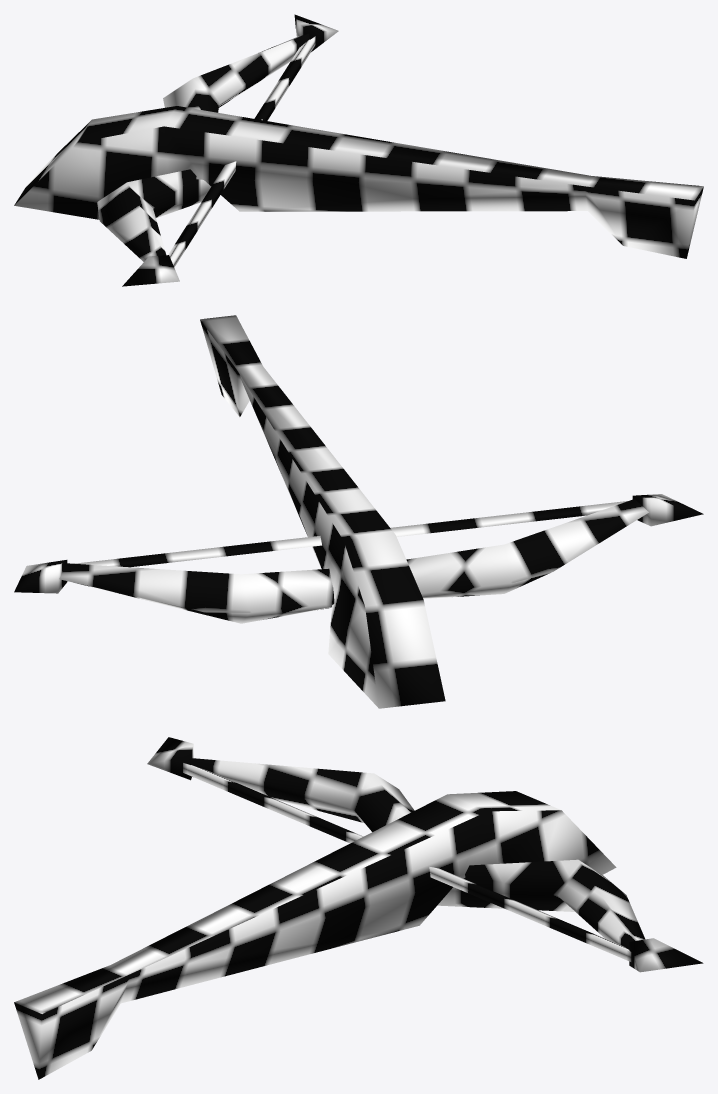
File: initwecb2.dae
3 views of the same model, one above another, from view 1: azimuth 30°, elevation 25°; view 2: azimuth 150°, elevation 25°; view 3: azimuth 270°, elevation 25° (orthographic). The views are drawn at different scales.
Visible parts, largest first — view 1: weapon; view 2: weapon; view 3: weapon.
Part boxes in pixels (<box>): weapon: <box>14,14,703,286</box>; weapon: <box>14,315,703,708</box>; weapon: <box>14,737,703,1079</box>.
Bounding box in the file's own units: 2.02 × 2.02 × 0.3426.
1 material, 1 textured.
